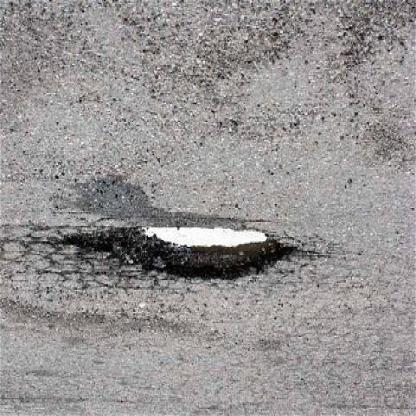pothole: (61, 223, 294, 289)
